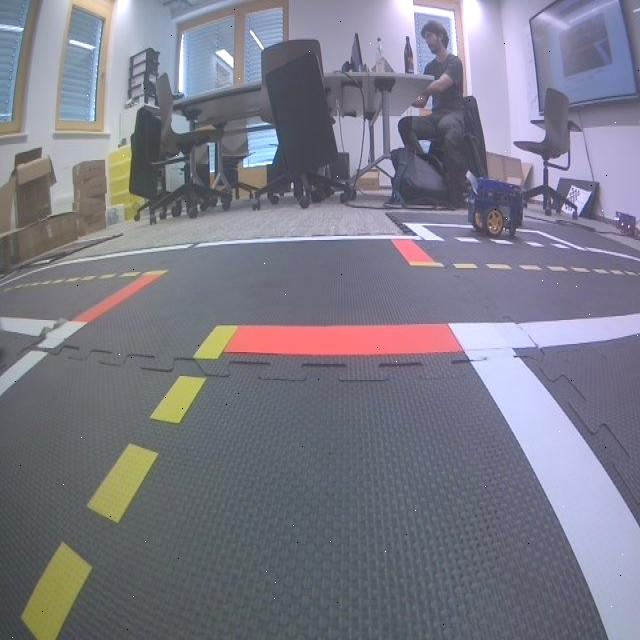bot: (466, 178, 526, 238)
park: (402, 222, 584, 250)
